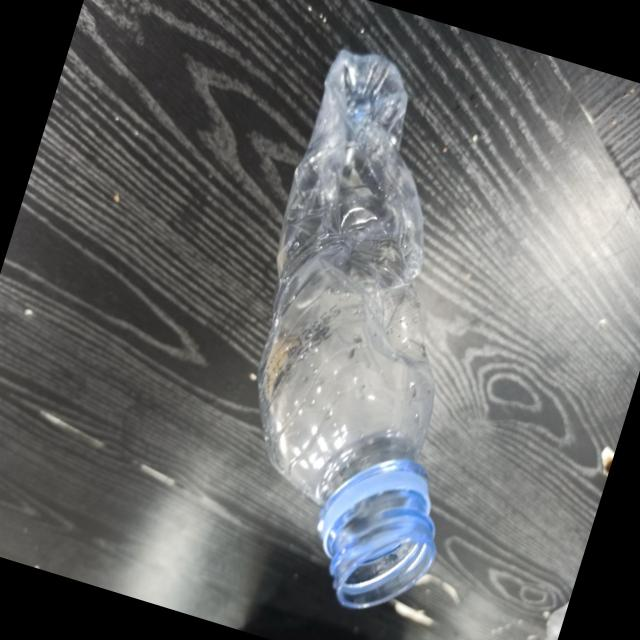BotolPlastik: (175, 41, 570, 630)
